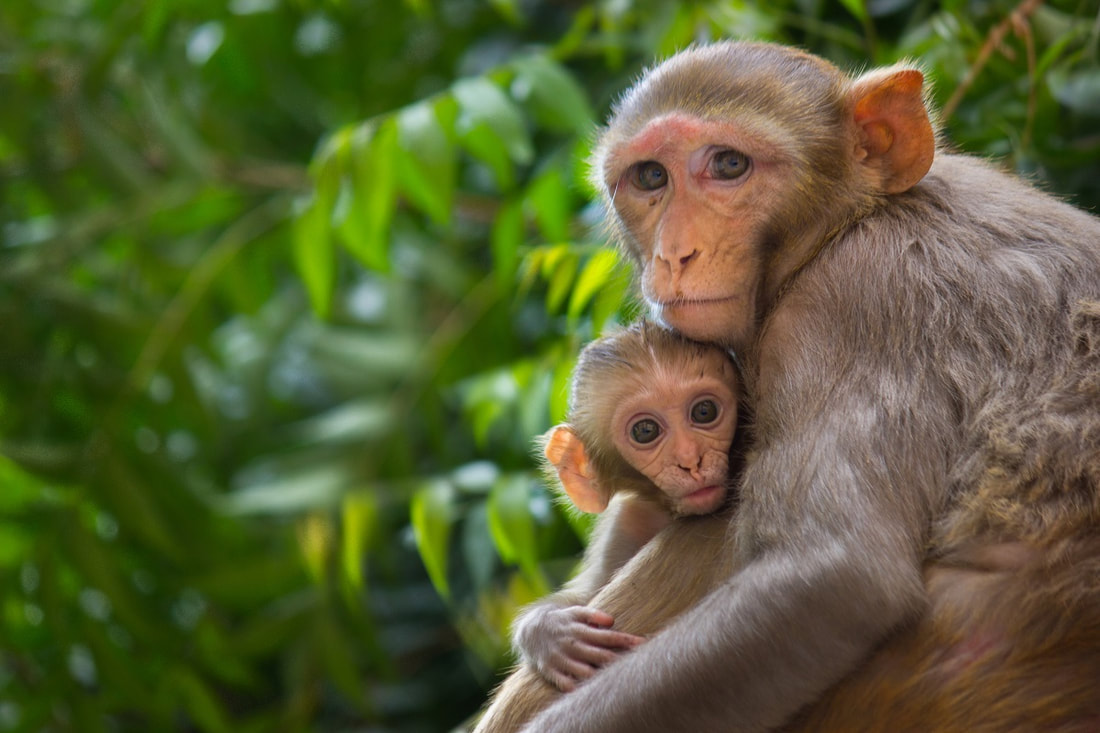monkey: (479, 33, 1100, 733), (506, 334, 784, 693)
